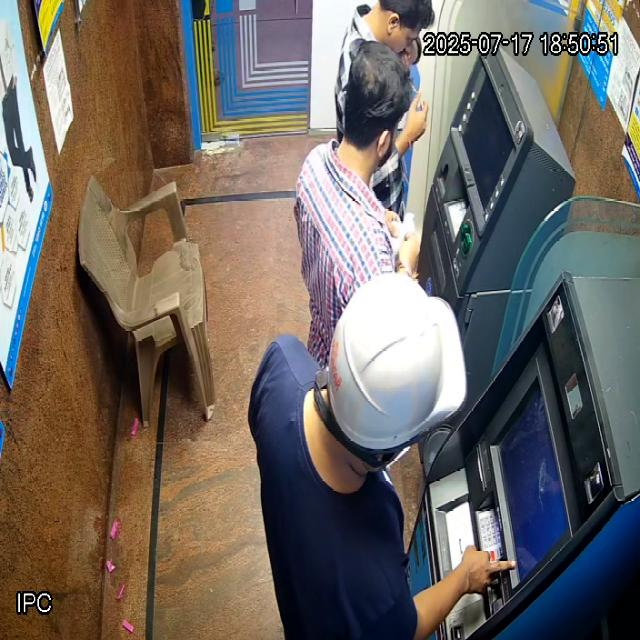helmet: (307, 271, 468, 477)
no_helmet: (335, 38, 414, 189), (363, 0, 435, 53)
